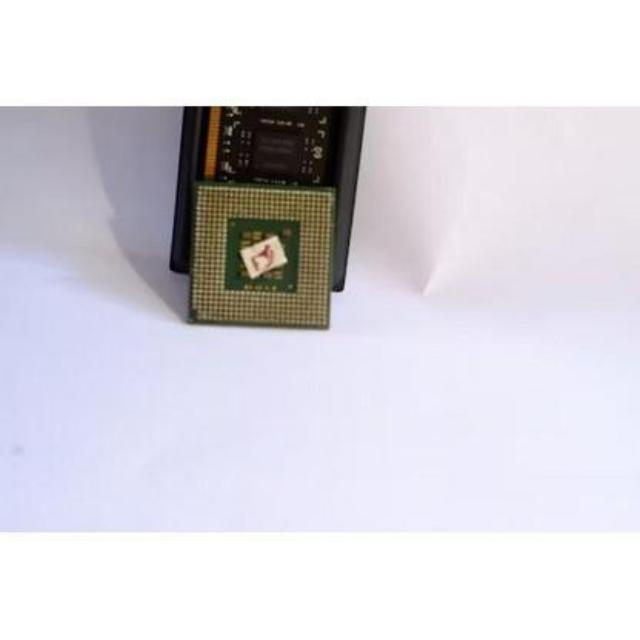CPU: (173, 181, 341, 336)
